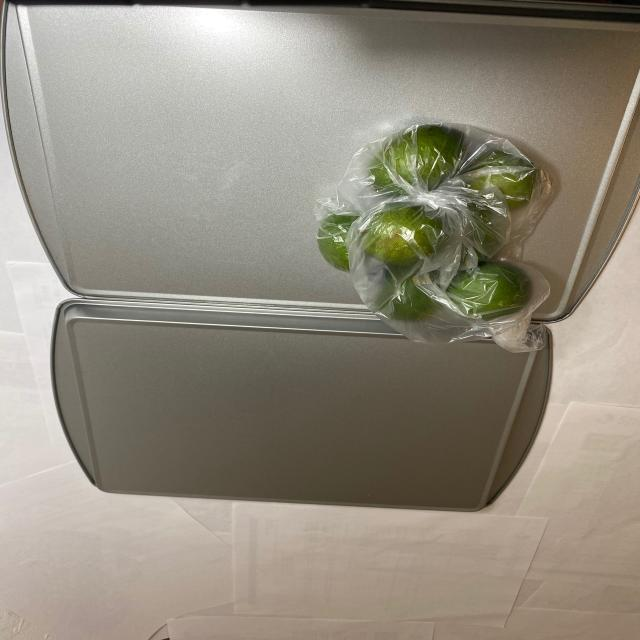lemon: (324, 124, 548, 327)
